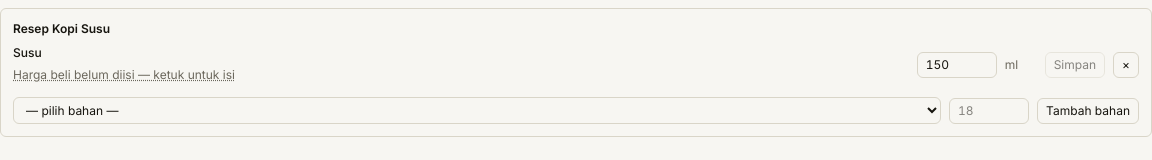
Test case: mengubah takaran › Simpan mati sampai angkanya benar-benar diubah
This screenshot has width=1152, height=160.
Expected: the button "Simpan" is disabled, [1045,52,1105,78]
Replace the text in the field named "Takaran Susu" with "200": (957, 65) [917,52,997,78]
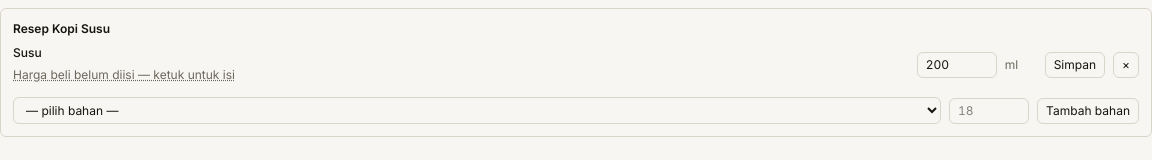
Result: the button "Simpan" is enabled at [1045,52,1105,78]
